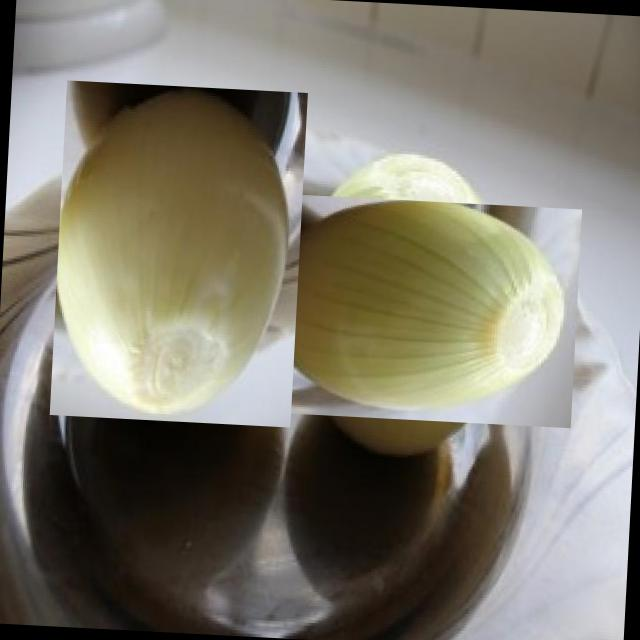Onion: (49, 80, 308, 428), (262, 164, 555, 456)
